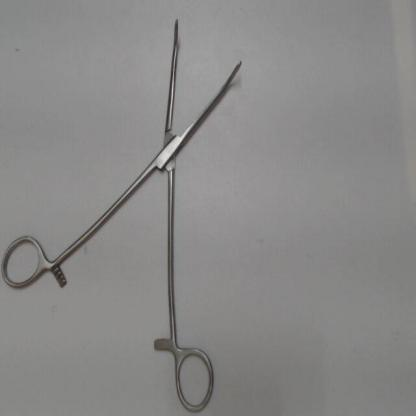Lahey Forceps: (0, 11, 252, 415)
